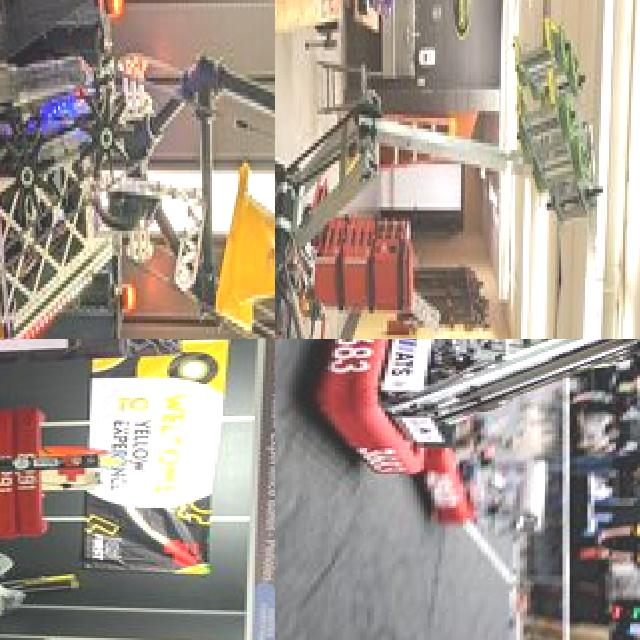FRC-Robots: (275, 0, 621, 339), (0, 0, 275, 339), (292, 339, 640, 492), (0, 339, 150, 640), (407, 418, 640, 537)
